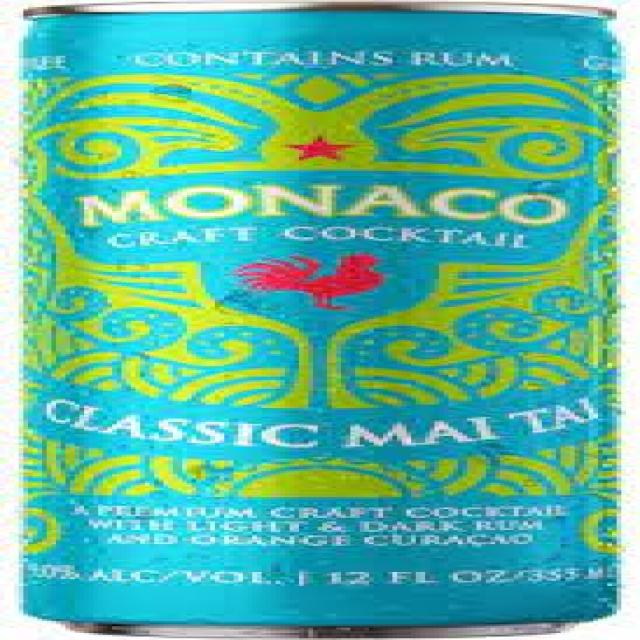Cans: (4, 1, 640, 636)
